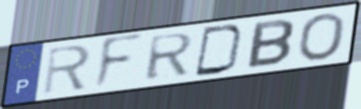B: (244, 17, 297, 71)
D: (192, 23, 248, 78)
F: (92, 31, 146, 94)
O: (295, 11, 348, 63)
R: (40, 43, 93, 97), (143, 31, 197, 83)
